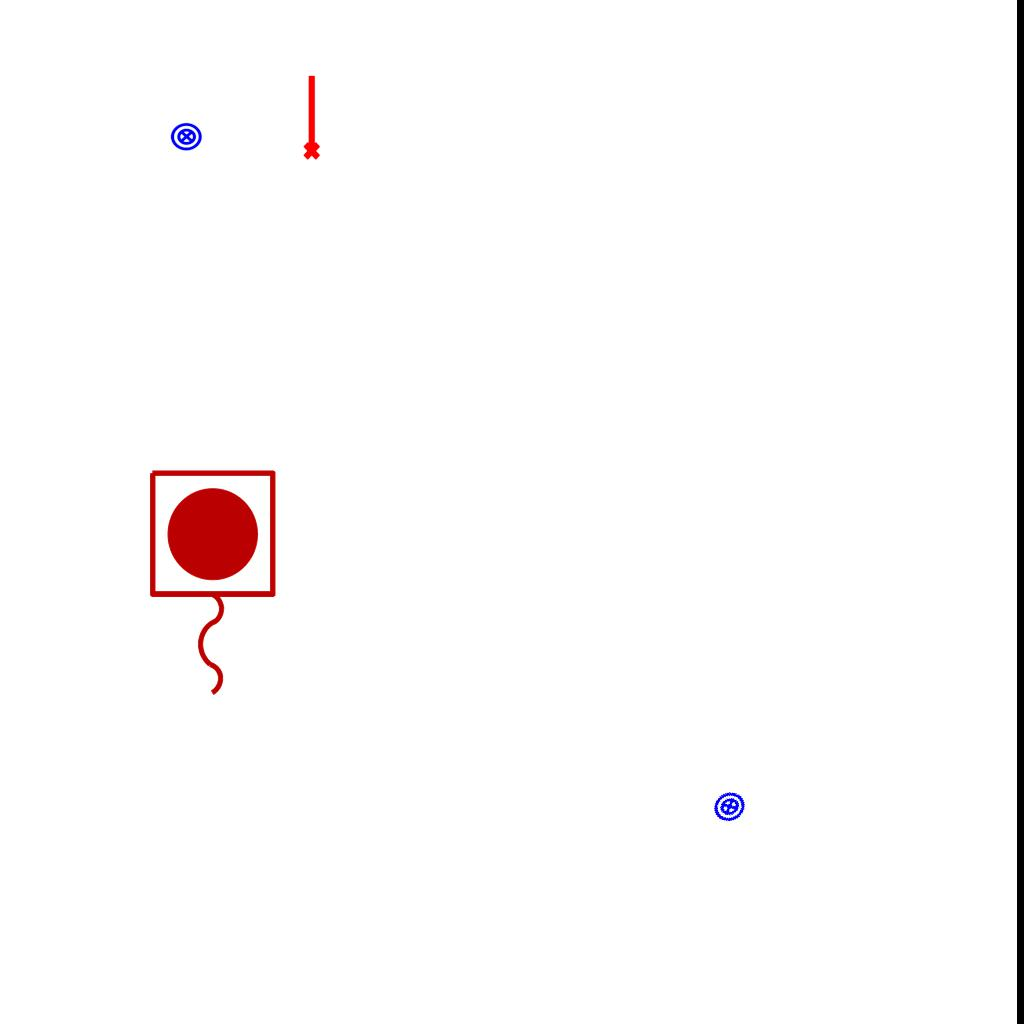ASR_Ansaugoeffnung: (299, 73, 322, 161)
Taster_beleuchtet: (707, 784, 752, 829), (170, 120, 203, 153)
Zugtaster: (139, 462, 283, 706)
